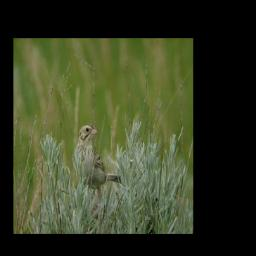Sparrow: (70, 120, 124, 217)
